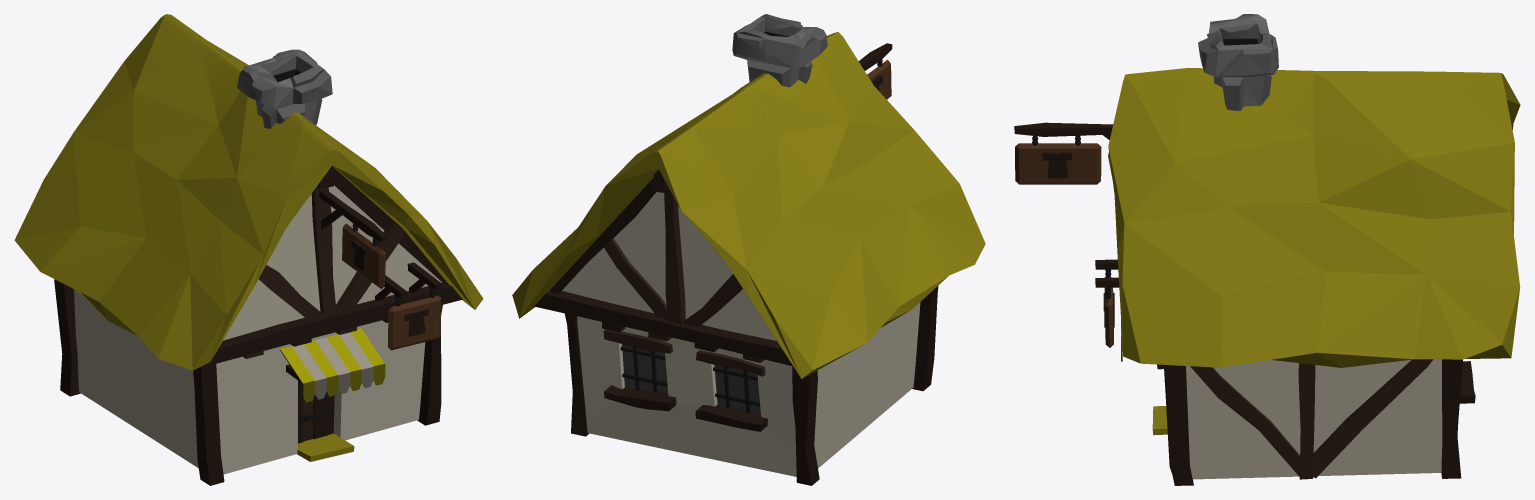
File: Shop02.fbx
The picture shows the model from 3 angles, left to right: view 1: azimuth 30°, elevation 25°; view 2: azimuth 150°, elevation 25°; view 3: azimuth 270°, elevation 25°; orthographic projection. The views are drawn at different scales.
Visible parts, largest first — view 1: BuildingShop04; view 2: BuildingShop04; view 3: BuildingShop04.
Boxes of the visible parts, x1=… form: BuildingShop04: x1=14, y1=14, x2=483, y2=485; BuildingShop04: x1=512, y1=14, x2=985, y2=485; BuildingShop04: x1=1014, y1=14, x2=1520, y2=485.
Size of the model in its own units: 2.28 by 2.43 by 2.84.
